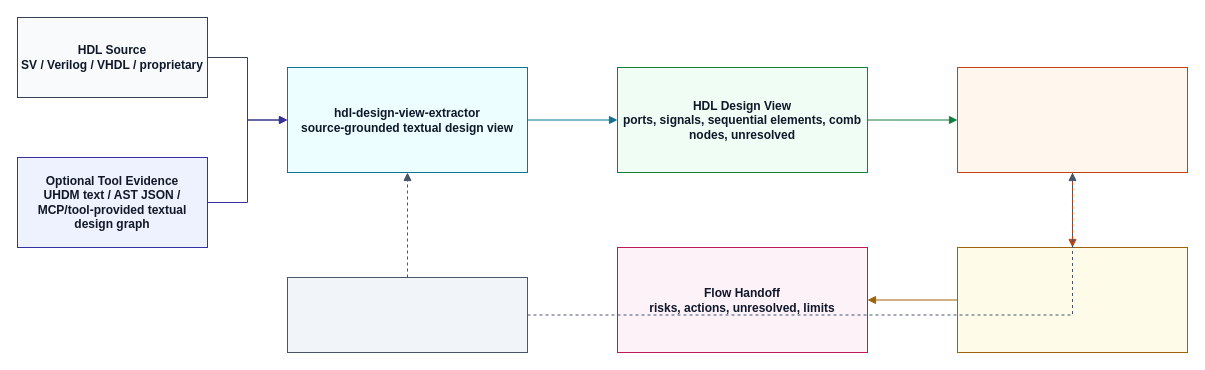
Some shapes in this 1205 by 370 pixel diagram are drawn without their labels. The shapes that lost their labels are listed below. From the top down, each one's box as (x1, y1, x2, y2) in pixels, then its label:
(956, 66, 1188, 172): rtl-timing-analyzer endpoint tracing + depth model
(286, 276, 528, 352): Guardrails no slack, no STA, no invented hierarchy
(956, 246, 1188, 352): Timing Report ranked paths, depth, difficulty, suggestions
